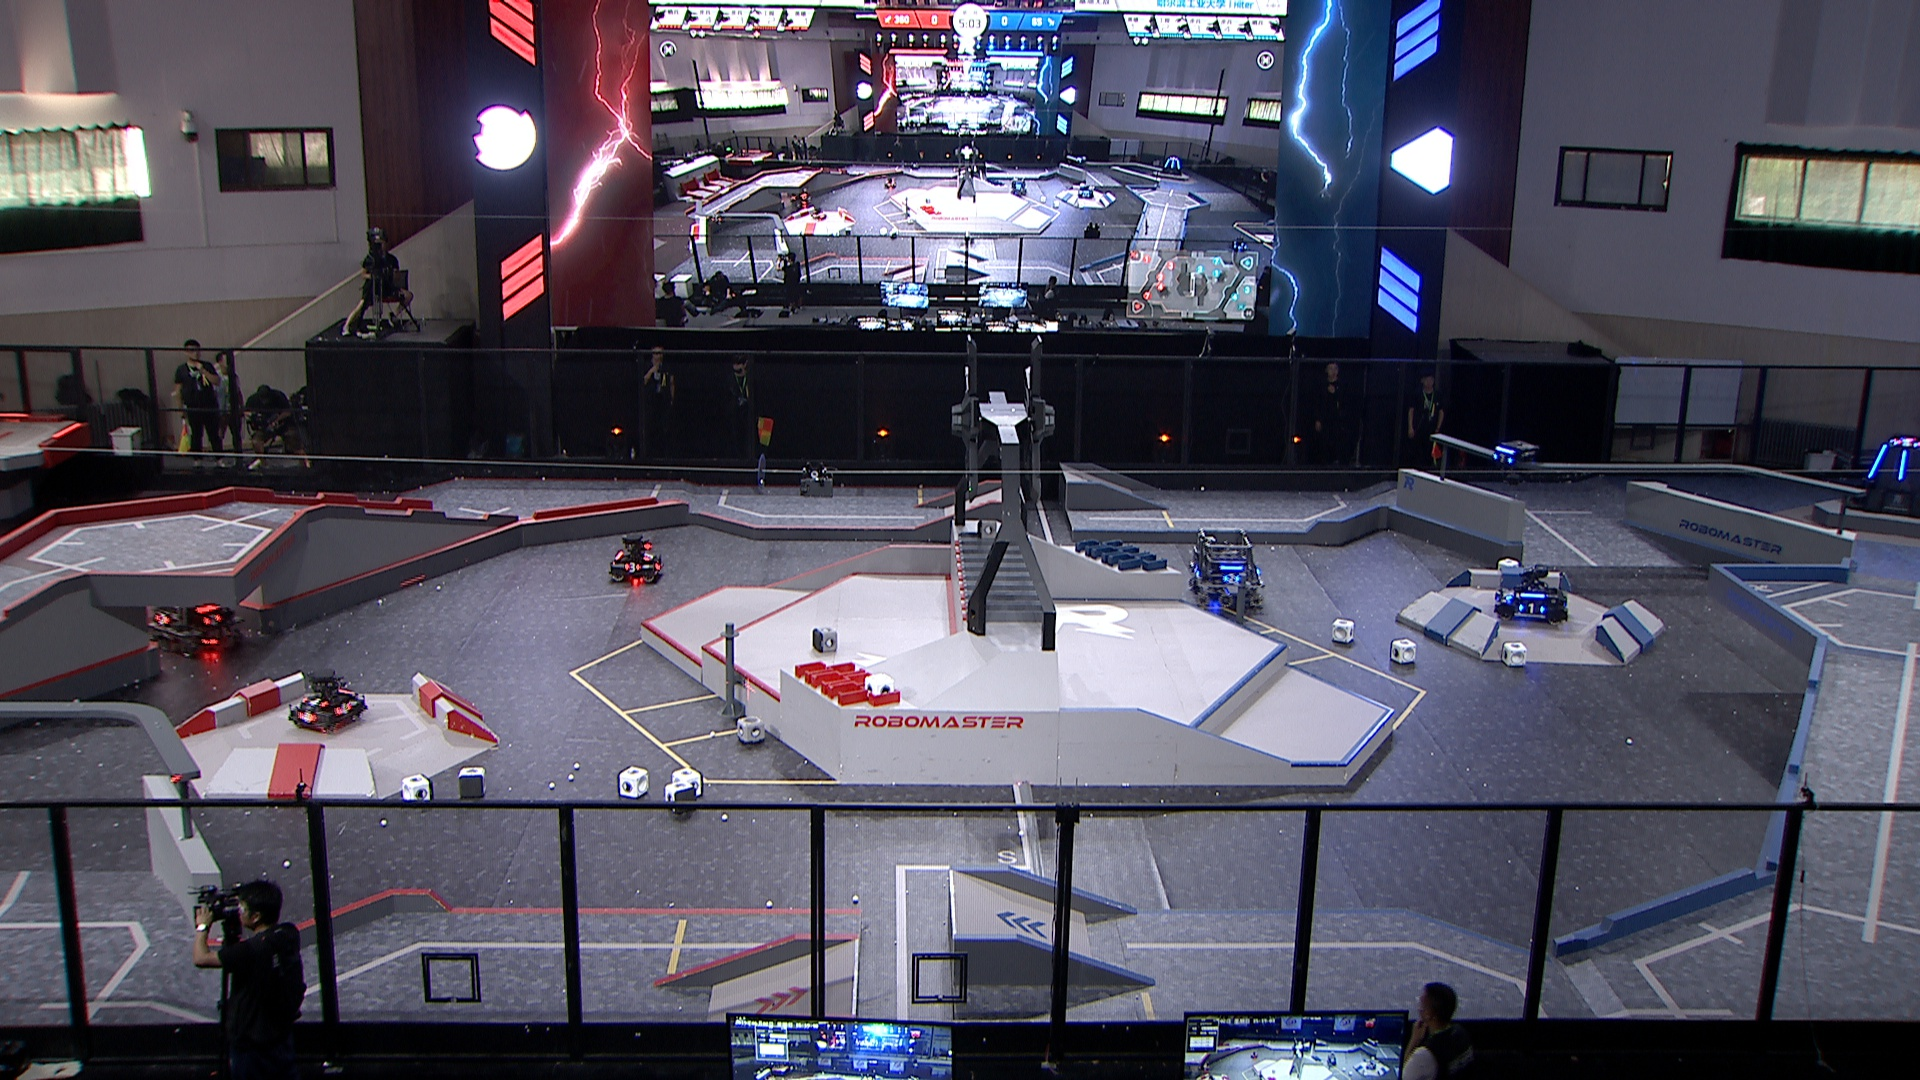armor: (1866, 442, 1888, 480), (1516, 603, 1547, 617), (200, 612, 224, 628), (295, 708, 320, 723), (1898, 448, 1908, 483), (334, 699, 353, 716), (1490, 452, 1515, 465), (152, 612, 174, 626), (1222, 571, 1242, 585), (622, 560, 642, 574), (301, 698, 328, 707), (641, 550, 655, 562)
base: (1841, 434, 1920, 518)
car: (142, 576, 244, 657), (1185, 527, 1269, 612), (286, 669, 367, 732), (1494, 566, 1571, 628), (604, 533, 665, 585)
ignore: (1007, 174, 1029, 196), (1158, 156, 1182, 175), (1076, 181, 1096, 200), (789, 193, 811, 210), (1229, 235, 1249, 253), (1894, 436, 1920, 448), (709, 208, 727, 225), (811, 207, 827, 223), (884, 175, 897, 190)
watcher: (1489, 438, 1538, 488)
